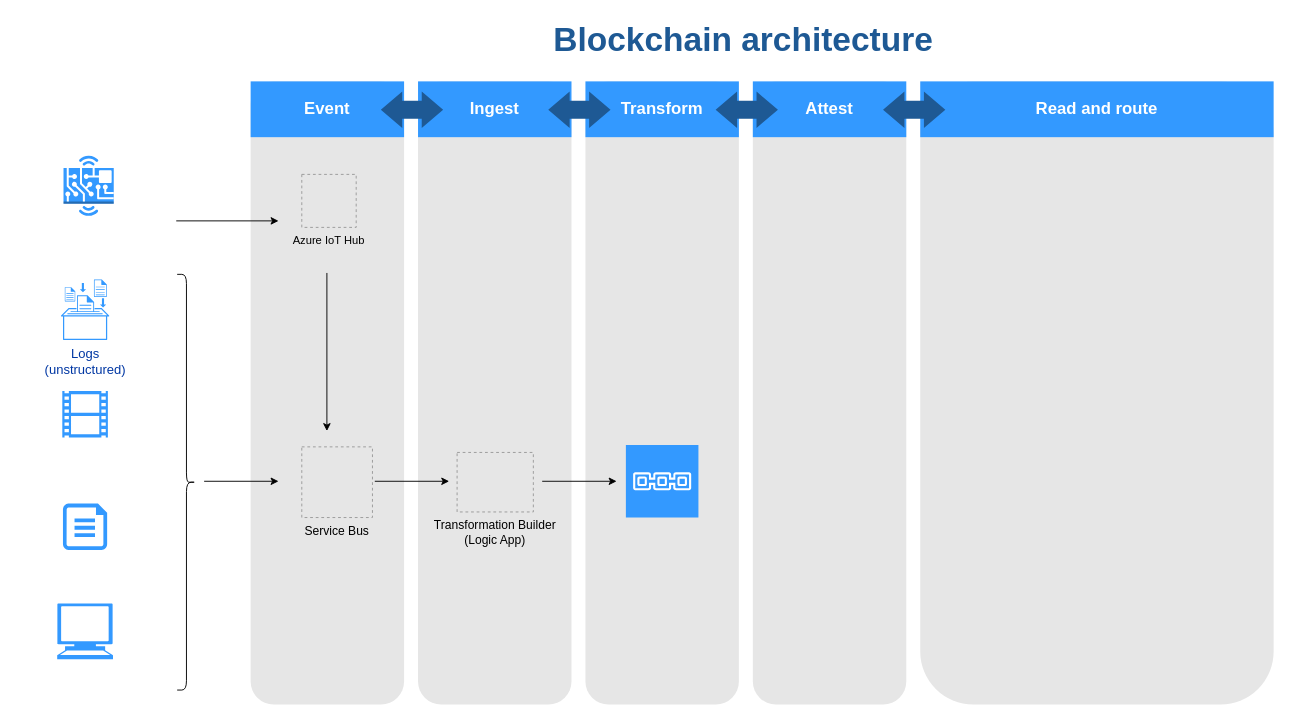
The diagram is 1290 pixels wide and 720 high, and some of its shapes have lost their labels. Grey dashed boxes stand in for pictures. The box of each missing label's shape, as (x1, y1, x2, y2) in pixels:
Azure Blockchain Service: (625, 444, 698, 518)
Business / Custom APP (unstructured): (57, 603, 113, 659)
File (unstructured): (62, 503, 107, 550)
Media (unstructured): (62, 391, 107, 437)
Sensors and IoT (unstructured): (63, 155, 114, 216)
